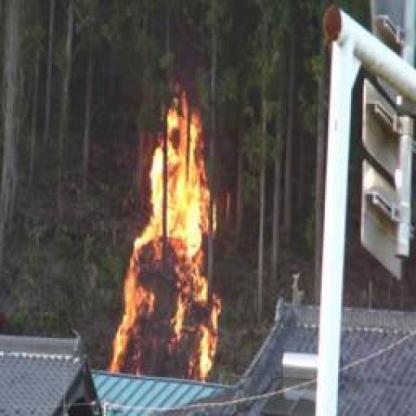fire: (94, 67, 218, 382)
